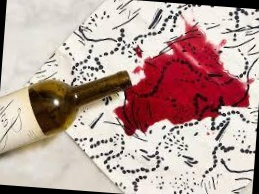wine: (126, 29, 244, 136)
